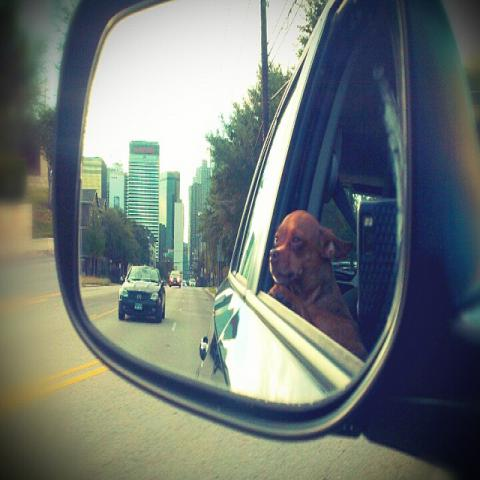car: (117, 266, 168, 324), (169, 270, 182, 287), (190, 277, 196, 286), (182, 280, 187, 287)
